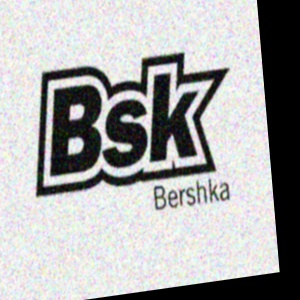bershka: (202, 0, 250, 79)
